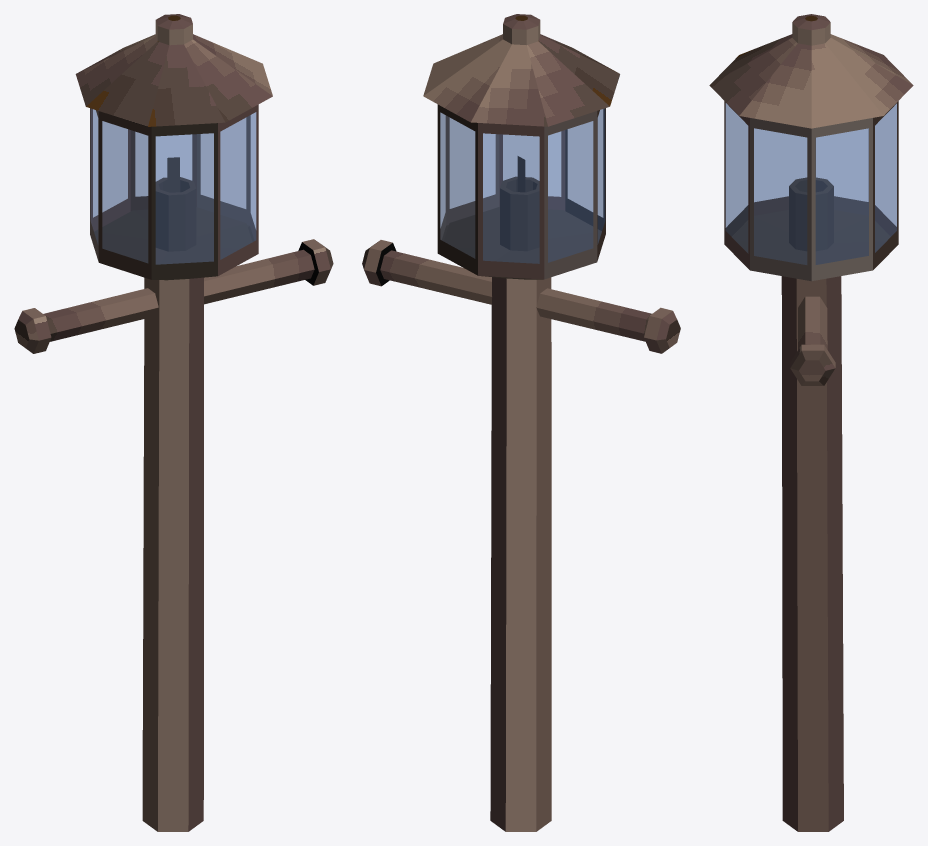
File: lamp_post_889x00.gltf
3 views of the same model, side by side, from view 1: azimuth 30°, elevation 25°; view 2: azimuth 150°, elevation 25°; view 3: azimuth 270°, elevation 25° (orthographic).
Parts seen in each view (by area): view 1: lamp_post_889x00; view 2: lamp_post_889x00; view 3: lamp_post_889x00.
Boxes of the visible parts, box(x1,y1,x2,y2) form: lamp_post_889x00: box(14, 14, 333, 831); lamp_post_889x00: box(362, 14, 680, 831); lamp_post_889x00: box(709, 14, 913, 831).
Bounding box in the file's own units: 2.76 × 6.95 × 1.6.
Materials: 2 (1 with a texture image).
